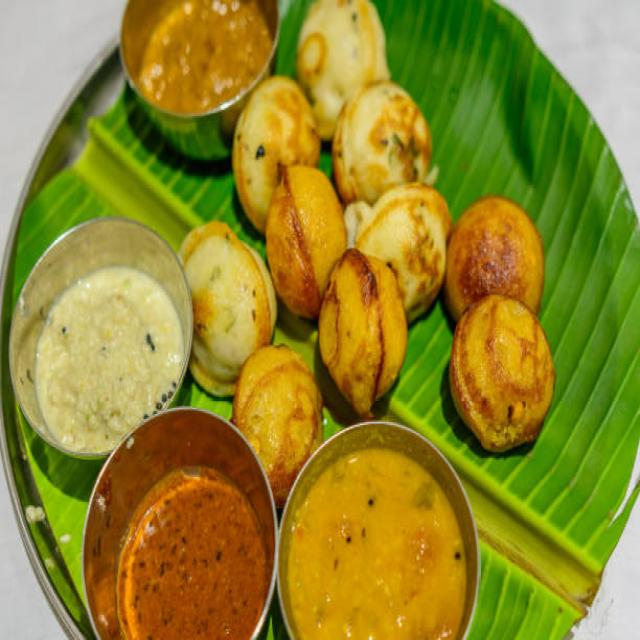RED CHUTNEY: (117, 471, 268, 637), (140, 0, 273, 110)
SAMBAR: (282, 444, 466, 638)
WHITE CHUTNEY: (35, 268, 185, 447)
